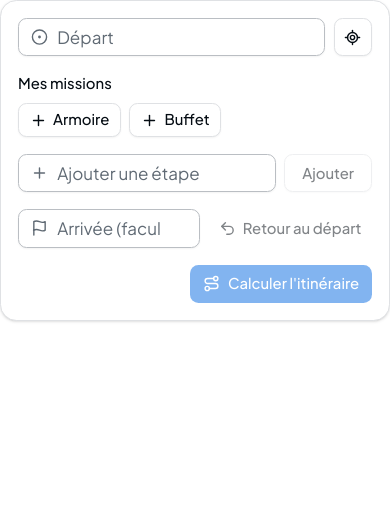
Test: RoutePlanner › refuses to plan a delivery before its pickup
This screenshot has width=390, height=511.
Click the button "Armoire": coordinates (70, 120) [18,103,121,137]
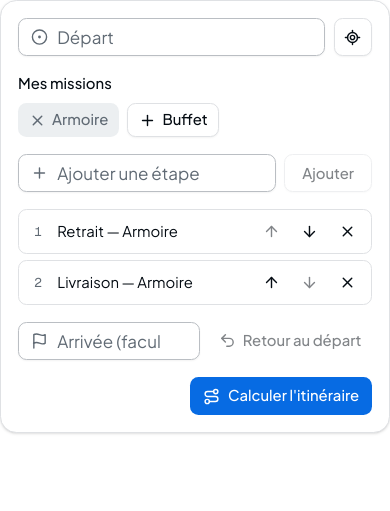
Click the button named "Monter « Livraison — Armoire »": coordinates (271, 282) [256,268,286,297]
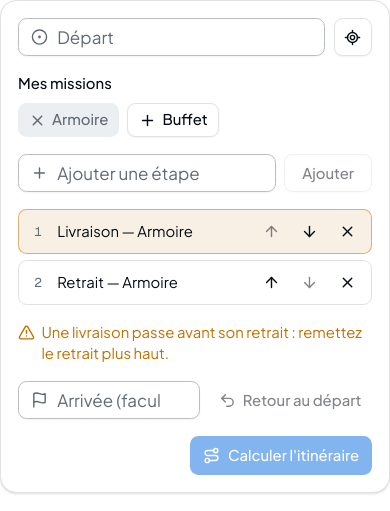
Now the text "Une livraison passe avant son retrait : remettez le retrait plus haut." is shown, box [18,322,372,364]
Now the button "Calculer l'itinéraire" is disabled, box [190,436,372,475]
